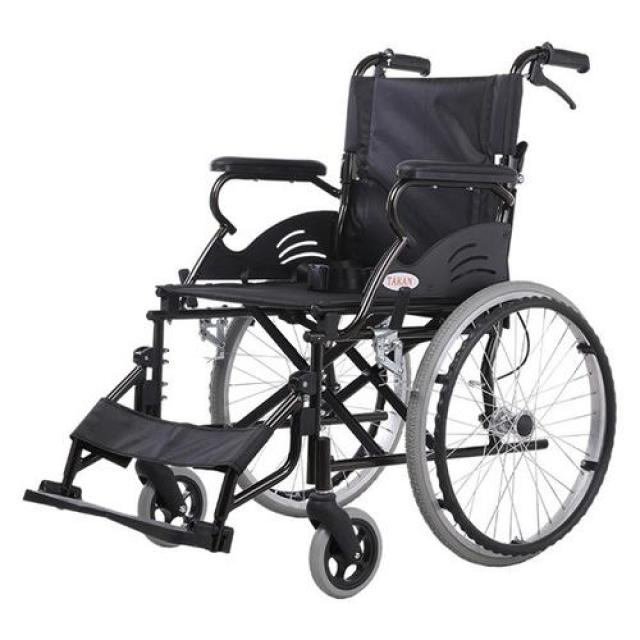wheelchairs: (15, 0, 621, 640)
